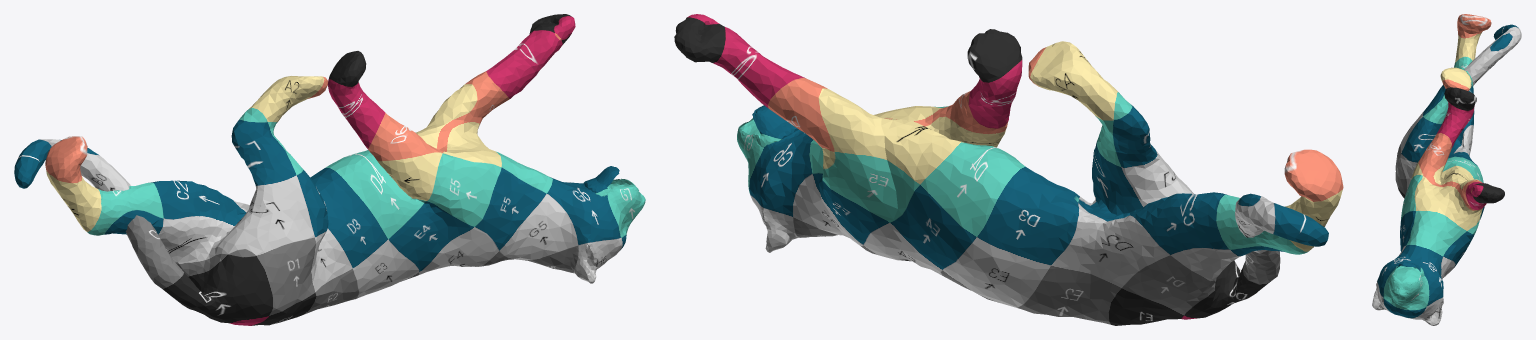
File: horse_08-cougar_03.obj
3 renders of one model, left to right at view 1: azimuth 30°, elevation 25°; view 2: azimuth 150°, elevation 25°; view 3: azimuth 270°, elevation 25°, orthographic. The views are drawn at different scales.
Visible parts, largest first — view 1: horse_08-cougar_03_export; view 2: horse_08-cougar_03_export; view 3: horse_08-cougar_03_export.
Part boxes in pixels (x1,y1,x2,y2): horse_08-cougar_03_export: (14,14,645,325); horse_08-cougar_03_export: (674,14,1343,325); horse_08-cougar_03_export: (1372,14,1521,325).
Size of the model in its own units: 1.19 by 0.4973 by 0.3967.
